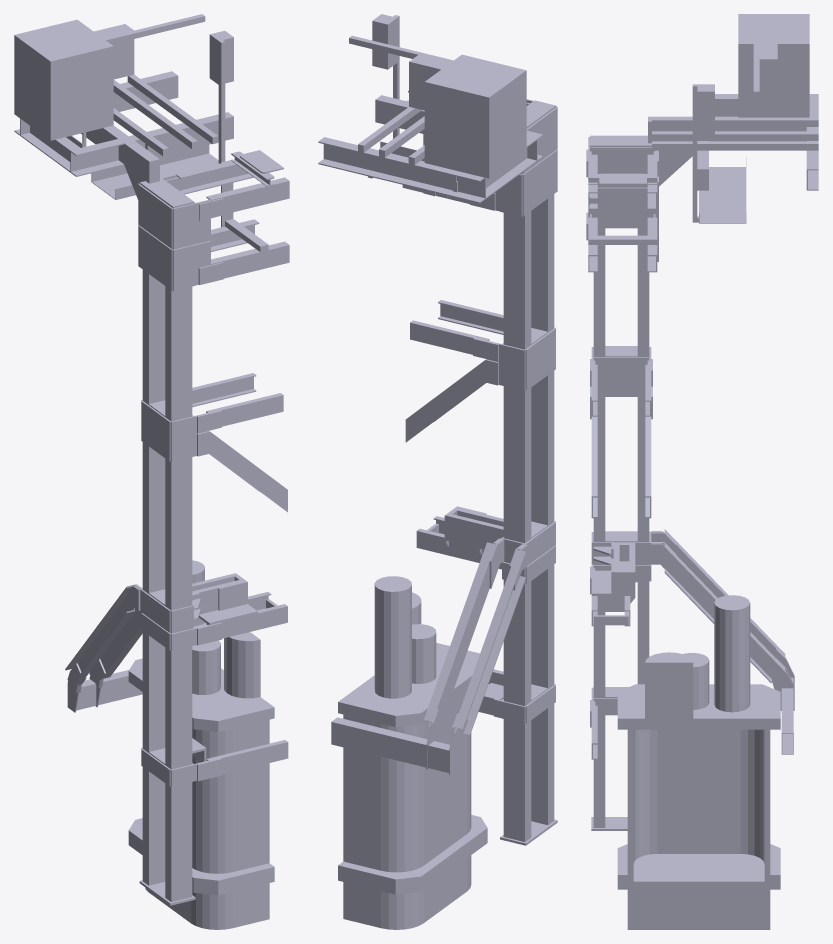
The model's file is Tower-Turret-SideA-cut3.glb.
3 renders of one model, left to right at view 1: azimuth 30°, elevation 25°; view 2: azimuth 150°, elevation 25°; view 3: azimuth 270°, elevation 25°, orthographic. The views are drawn at different scales.
Parts seen in each view (by area): view 1: null; view 2: null; view 3: null.
Part boxes in pixels (x1,y1,x2,y2): null: (14,14,289,929); null: (318,14,557,929); null: (586,14,818,929).
Size of the model in its own units: 1.55 by 7.78 by 1.95.
